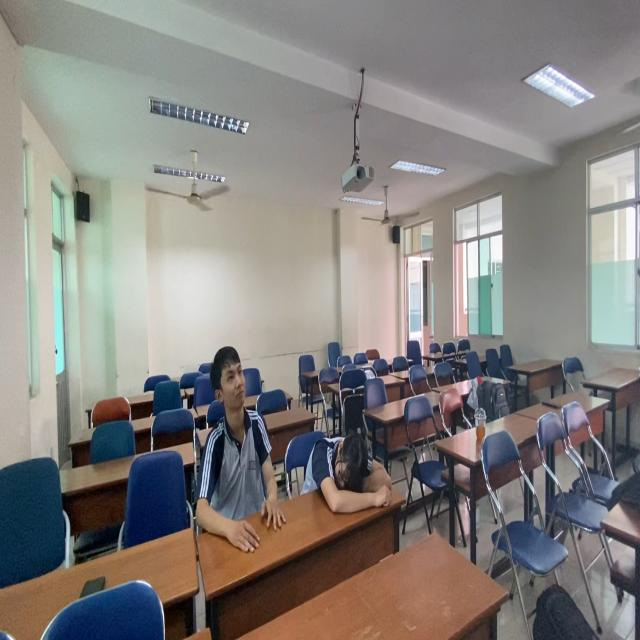sleep: (302, 422, 397, 529)
